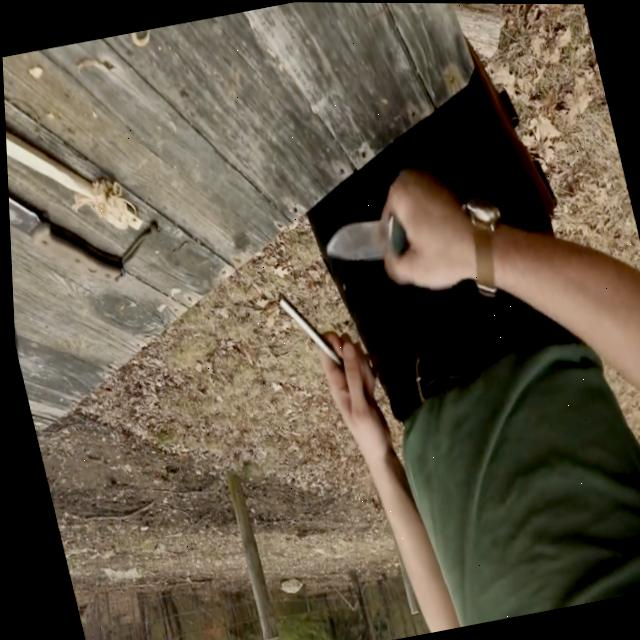knife: (316, 204, 410, 271)
